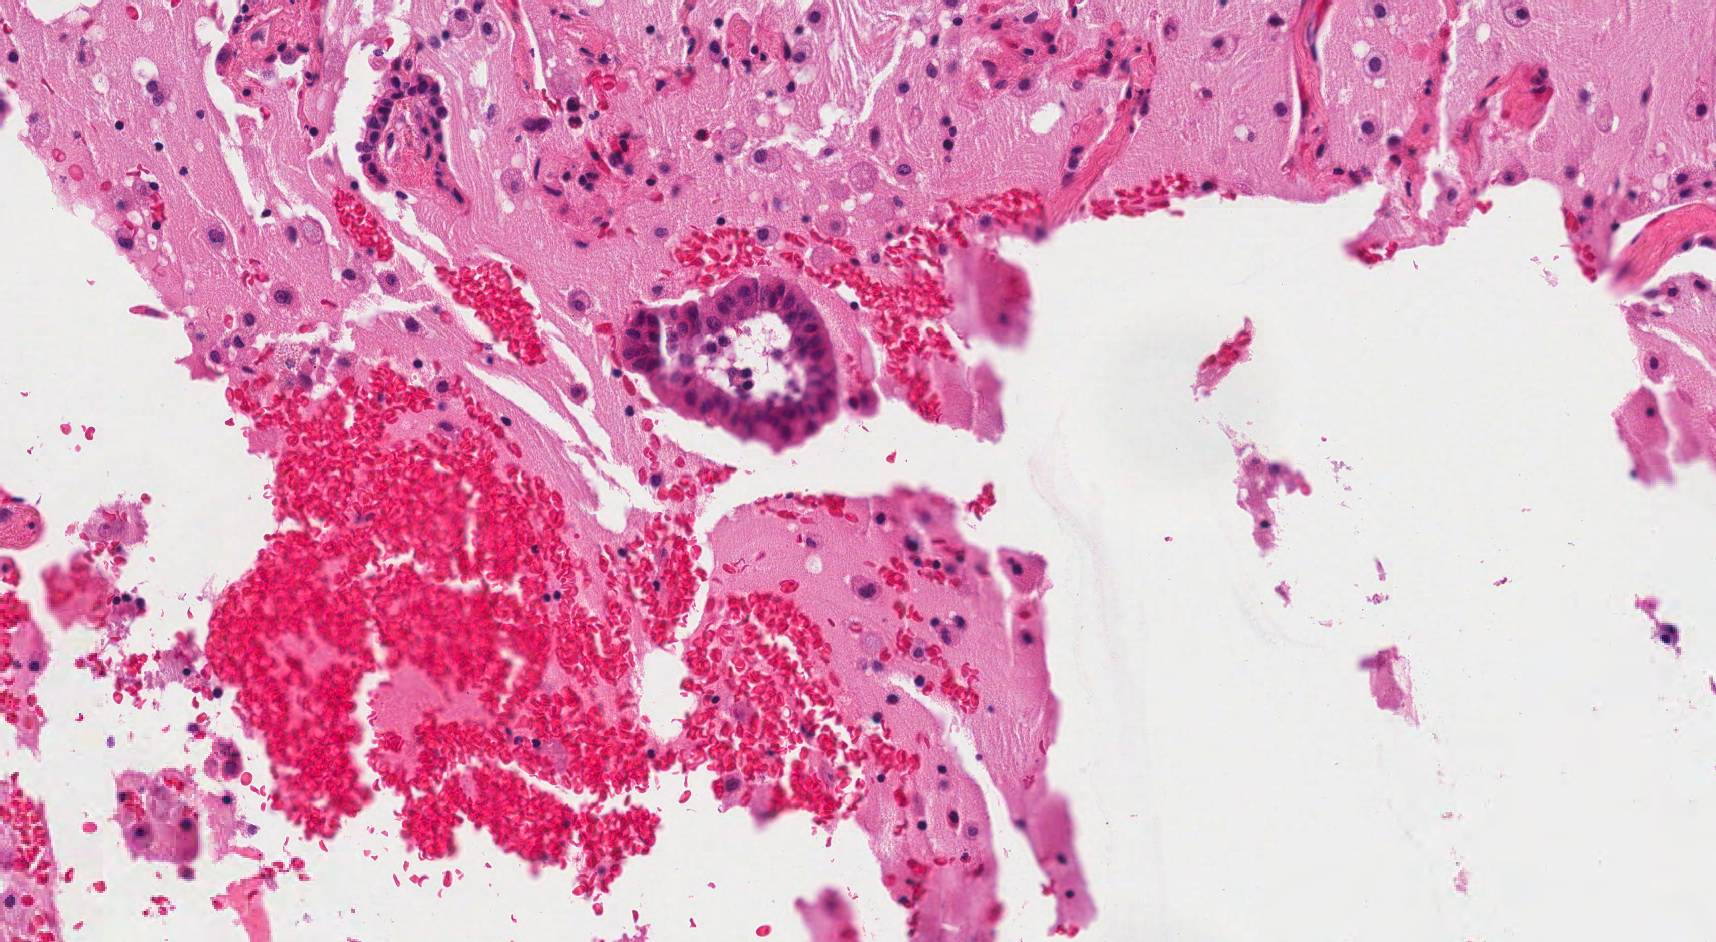stas: (614, 276, 842, 454)
